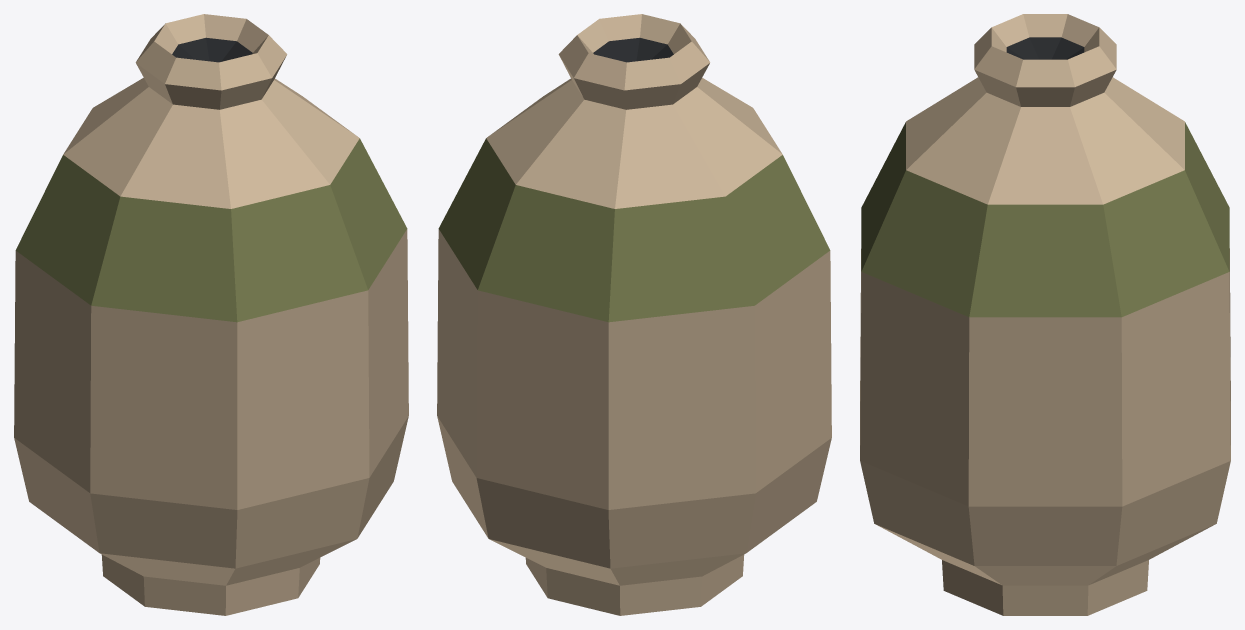
Rendered from SM_Prop_Vase_03.fbx.
3 views of the same model, side by side, from view 1: azimuth 30°, elevation 25°; view 2: azimuth 150°, elevation 25°; view 3: azimuth 270°, elevation 25° (orthographic).
Visible parts, largest first — view 1: SM_Prop_Vase_03; view 2: SM_Prop_Vase_03; view 3: SM_Prop_Vase_03.
Part boxes in pixels (bbox=[...]): SM_Prop_Vase_03: bbox=[14, 14, 408, 615]; SM_Prop_Vase_03: bbox=[437, 14, 831, 615]; SM_Prop_Vase_03: bbox=[860, 14, 1230, 615].
Size of the model in its own units: 42.21 by 67.33 by 42.21.
